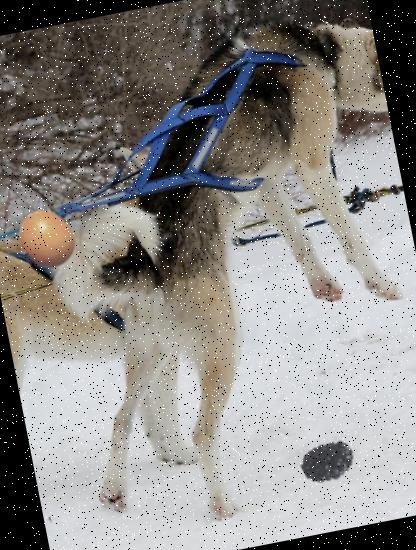Grapefruit: (11, 202, 82, 274)
Mulberry: (298, 430, 360, 493)
